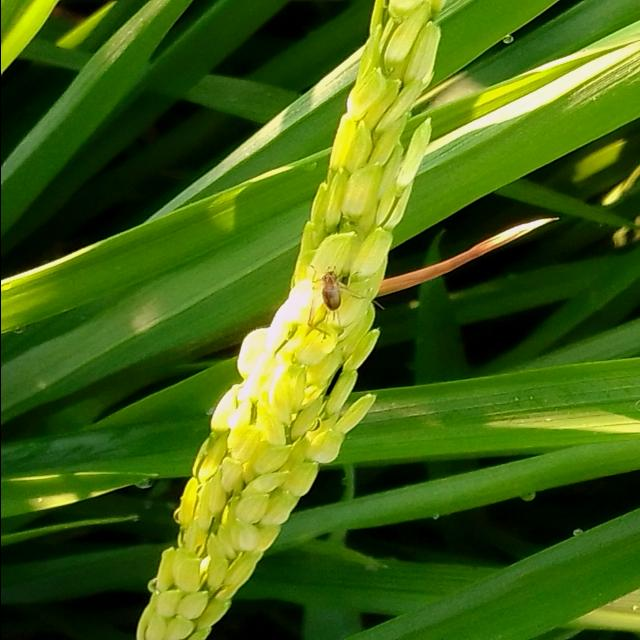Wereng: (296, 260, 354, 339)
